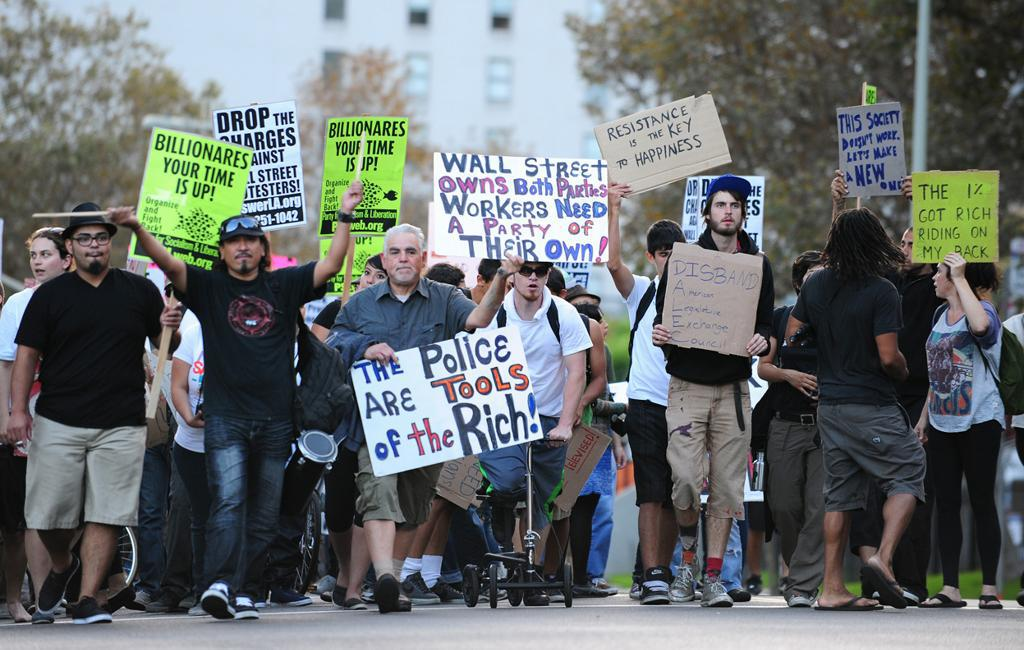face: (73, 227, 110, 273), (388, 238, 422, 283), (515, 256, 547, 301), (225, 233, 260, 274), (711, 194, 742, 233), (31, 243, 62, 281), (807, 267, 832, 304), (655, 245, 683, 278), (899, 234, 924, 270), (933, 262, 957, 298), (361, 266, 387, 299), (485, 275, 508, 302), (592, 314, 608, 344)
